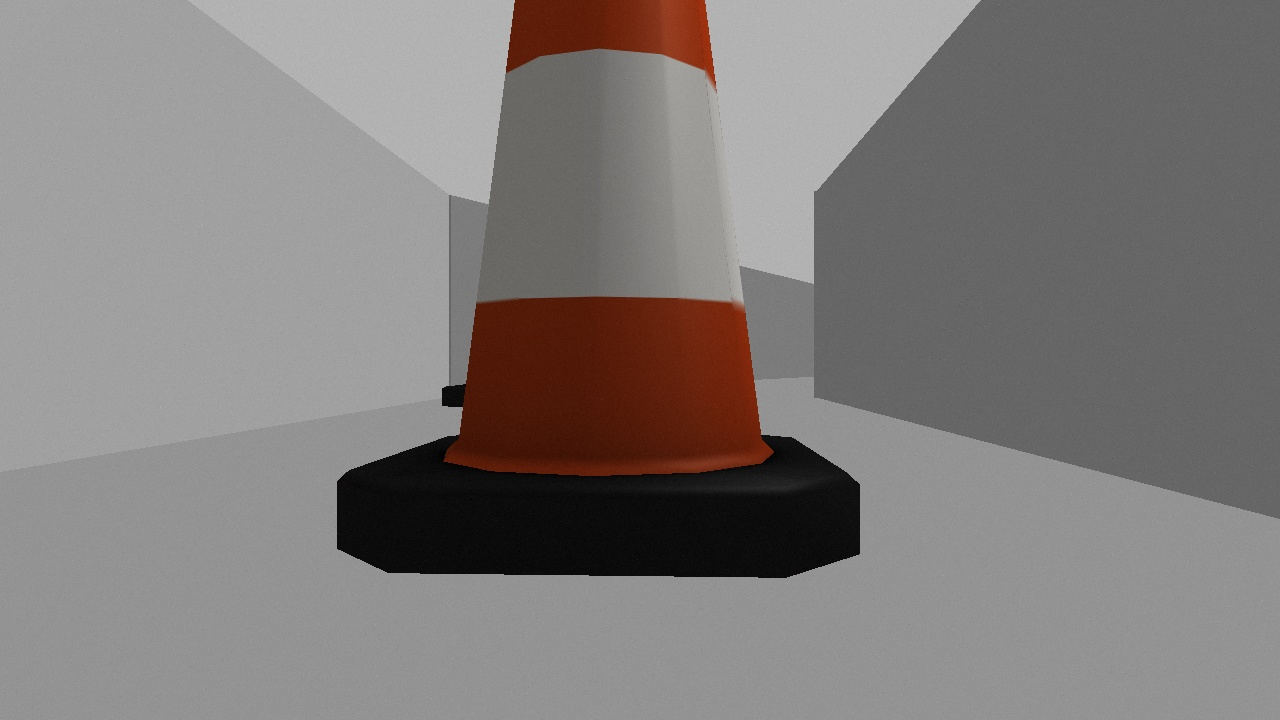barricade: (313, 1, 881, 605)
